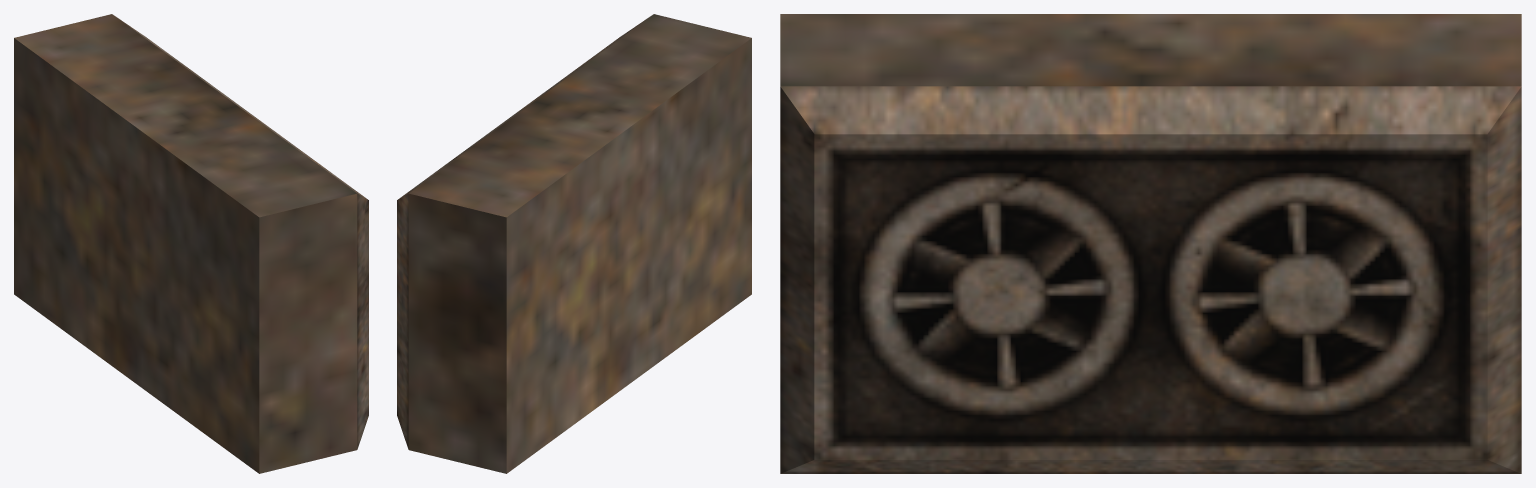
File: vent_box.fbx
The picture shows the model from 3 angles, left to right: view 1: azimuth 30°, elevation 25°; view 2: azimuth 150°, elevation 25°; view 3: azimuth 270°, elevation 25°; orthographic projection. The views are drawn at different scales.
Parts seen in each view (by area): view 1: Mesh; view 2: Mesh; view 3: Mesh.
Part boxes in pixels (x1=…): Mesh: x1=14, y1=14, x2=368, y2=473; Mesh: x1=397, y1=14, x2=751, y2=473; Mesh: x1=780, y1=14, x2=1521, y2=473.
Size of the model in its own units: 14.8 by 30 by 52.
1 material, 1 textured.
